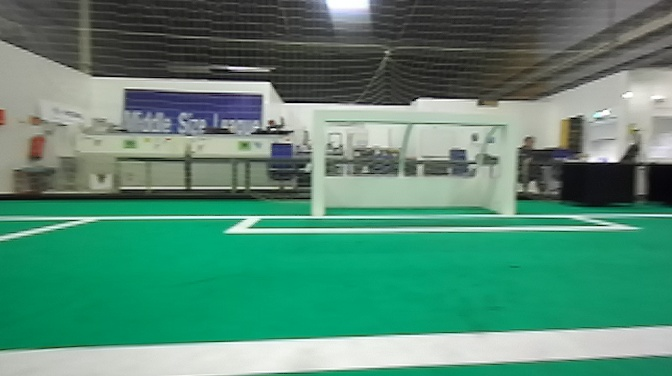goalpost: (490, 105, 522, 219), (306, 108, 332, 219)
